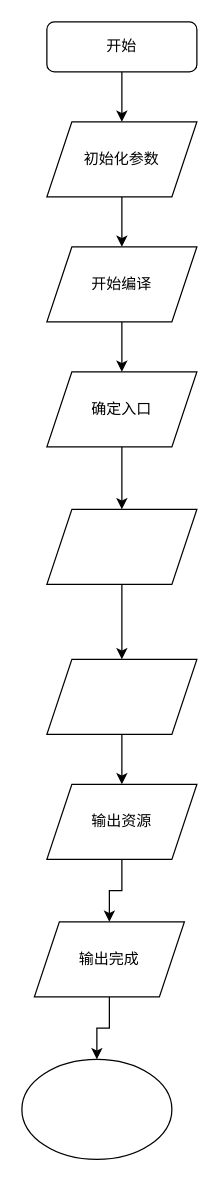
Some shapes in this 219 by 1181 pixel diagram are drawn without their labels. Here are the shapes that lost their labels. From the top down, the box of each, then its label:
(46, 508, 197, 584): 编译模块
(46, 658, 197, 734): 完成模块编译
(21, 1058, 172, 1159): 结束
